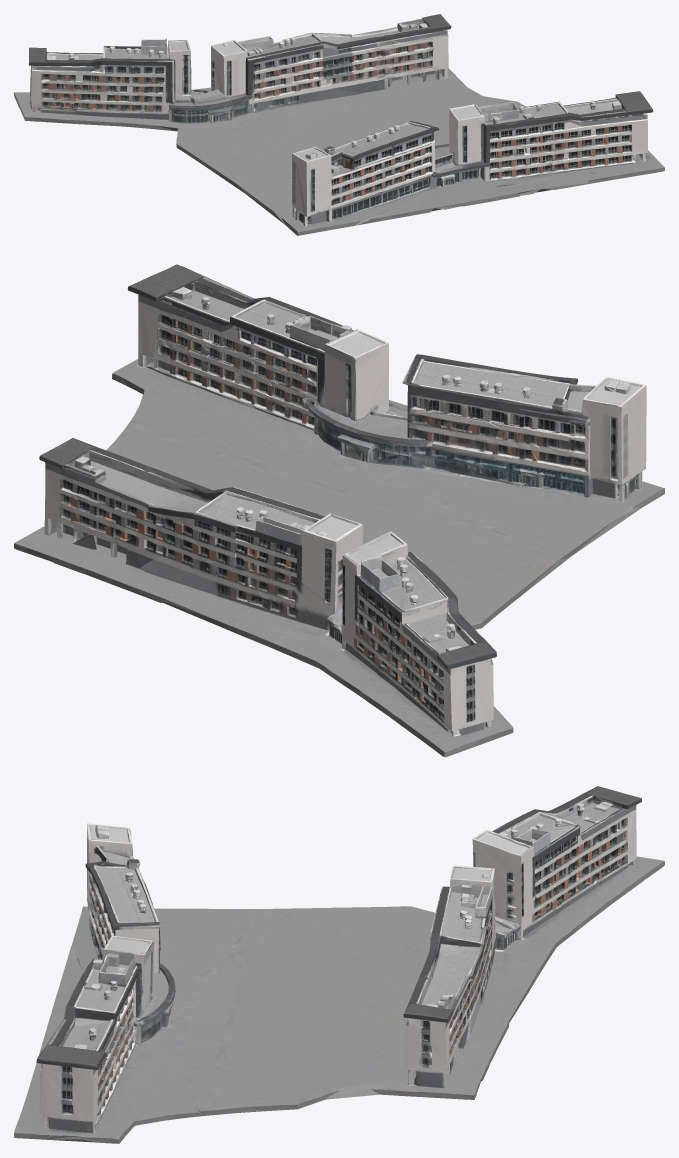
The model's file is saenghwal.glb.
3 renders of one model, top to bottom at view 1: azimuth 30°, elevation 25°; view 2: azimuth 150°, elevation 25°; view 3: azimuth 270°, elevation 25°, orthographic. The views are drawn at different scales.
Size of the model in its own units: 1.9 by 0.3016 by 1.8.
1 material, 1 textured.
